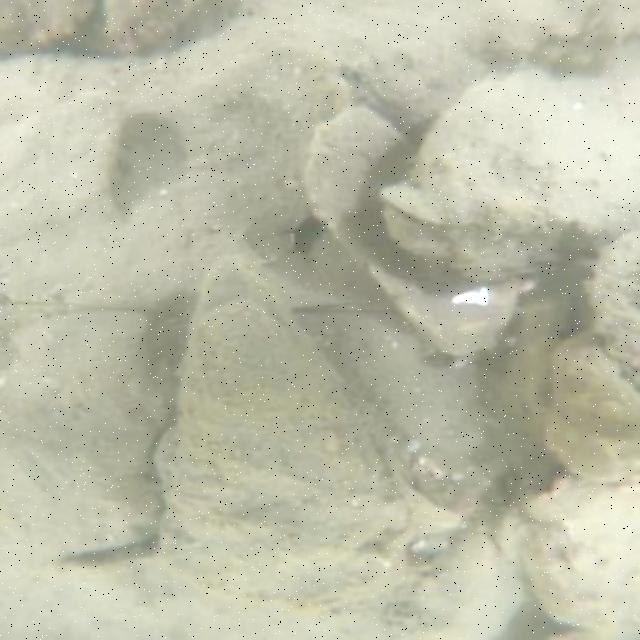Oyster-Closed: (162, 257, 401, 595), (384, 73, 640, 281), (309, 110, 524, 356), (7, 313, 166, 556), (210, 2, 479, 120), (0, 88, 126, 238), (519, 486, 640, 640), (378, 523, 514, 628), (546, 332, 640, 483), (580, 230, 640, 385), (102, 0, 208, 50), (16, 5, 93, 56)
